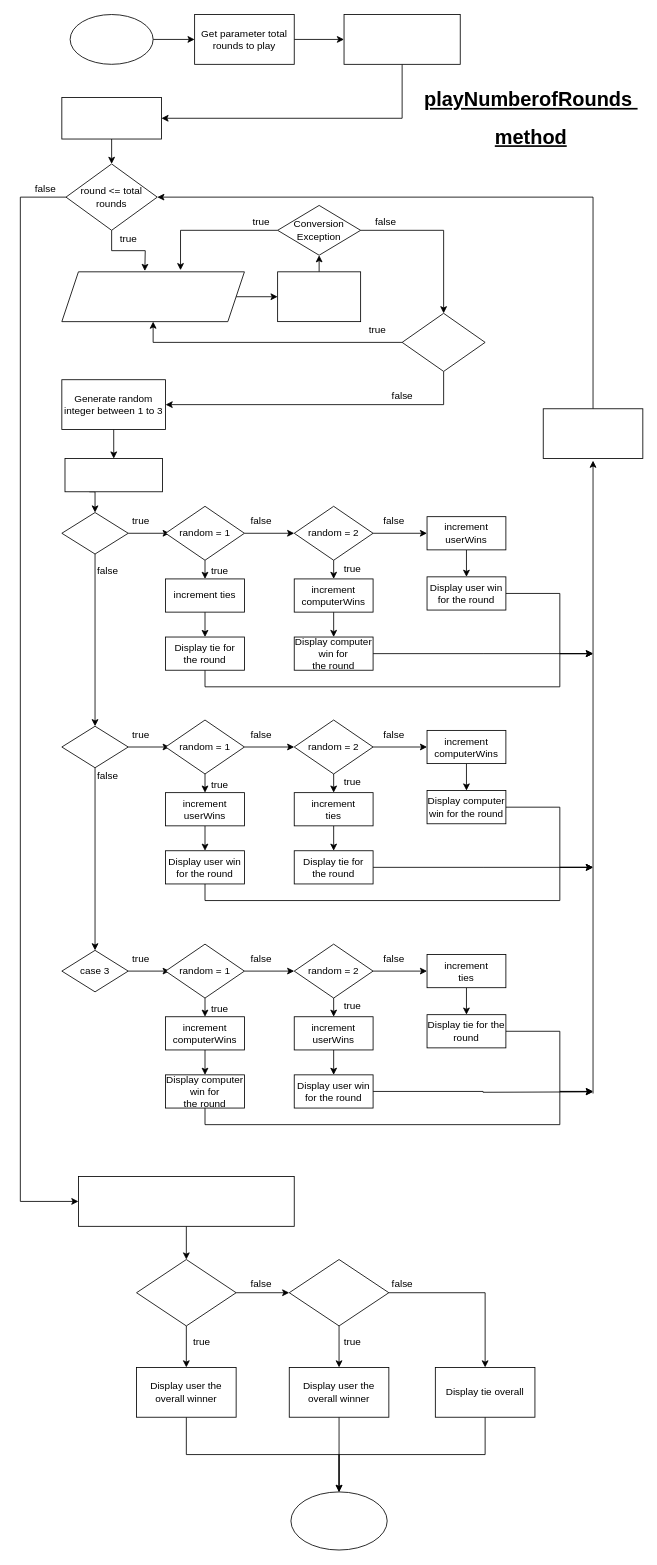
The diagram is 657 pixels wide and 1565 high, and some of its shapes have lost their labels. Each missing label, with the centre of its shape:
case 1: (94,533)
case 2: (94,746)
Convert input to an interger: (319,296)
Display overall ties, user wins and computer wins for all rounds of play: (186,1201)
End: (338,1520)
increment round: (592,433)
Initialization round = 1: (111,118)
Initialize variables ties, userWins, computerWins: (401,39)
integer out of range: (443,341)
Prompt user input choice (1=Rock, 2=Paper, 3=Scissors): (152,296)
Start: (111,39)
switch choice: (113,475)
userWins < computerWins: (338,1292)
userWins > computerWins: (186,1292)
